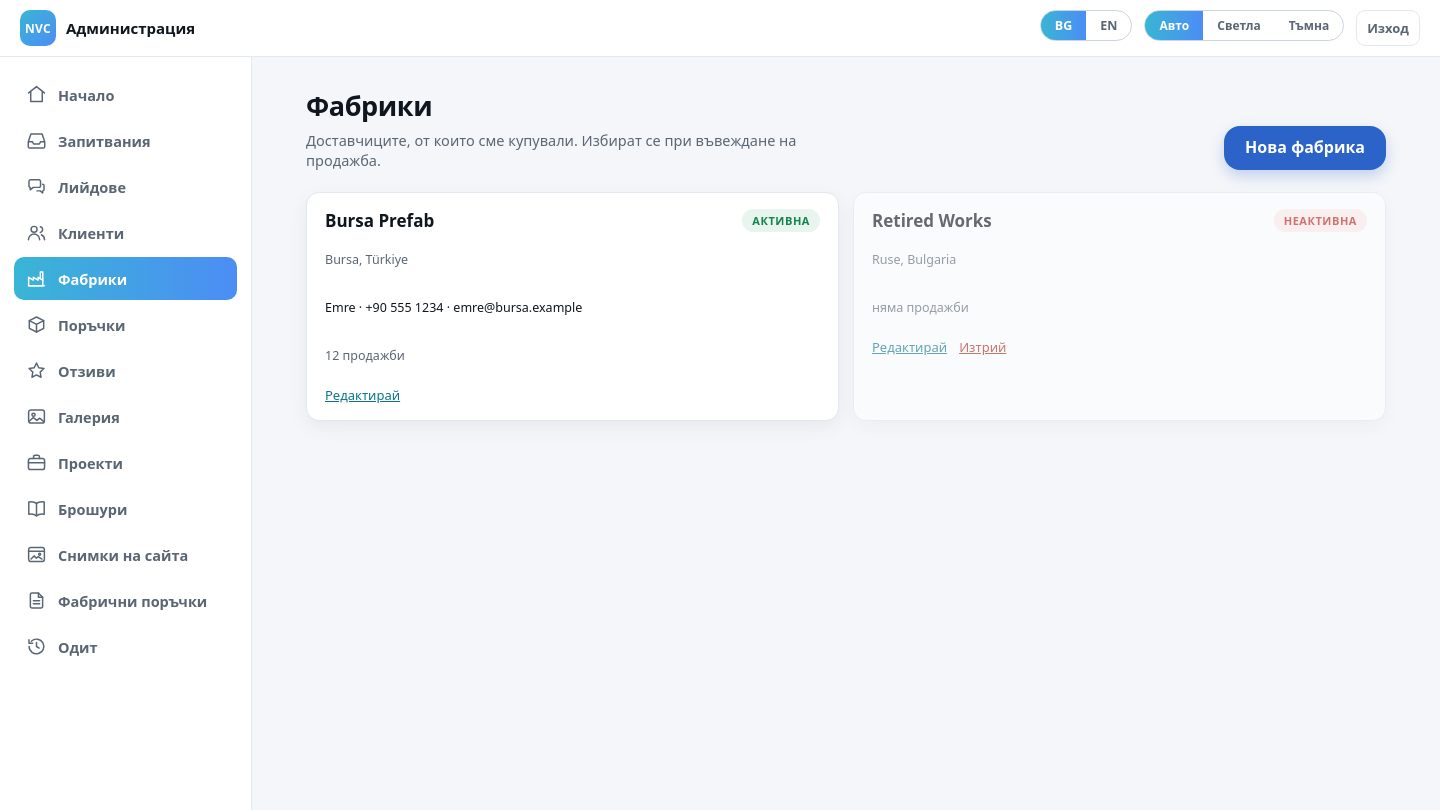
it: AdminFactoriesPage › a save that lands closes the editor and reports itself in the banner
Expected: the heading "Bursa Prefab" is shown, [325, 209, 434, 232]
Step 1. Click the button "Нова фабрика" → click(1305, 148), box [1224, 126, 1386, 170]
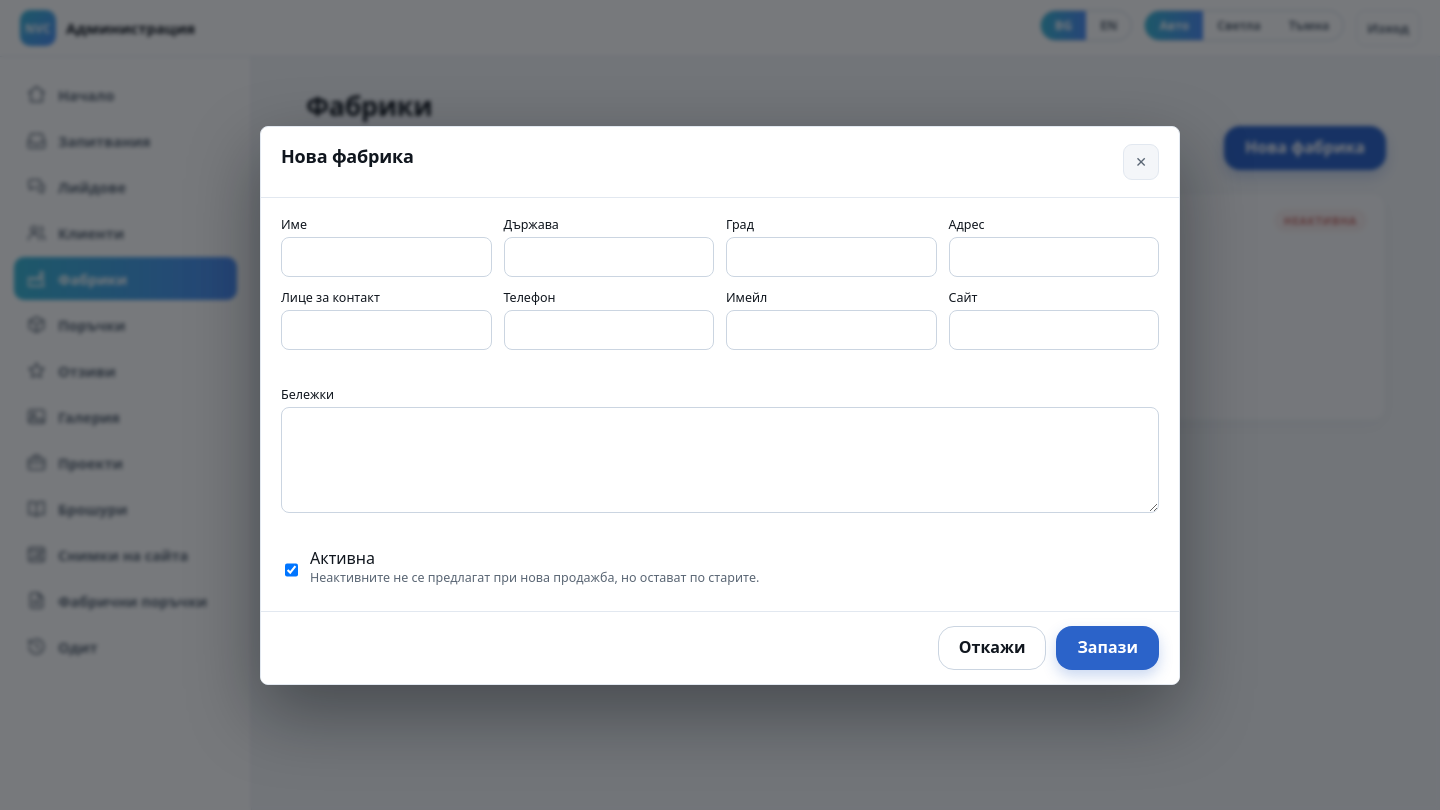
Step 2. Type "Нова" into the field labelled "Име" → (386, 256), box [281, 236, 492, 276]
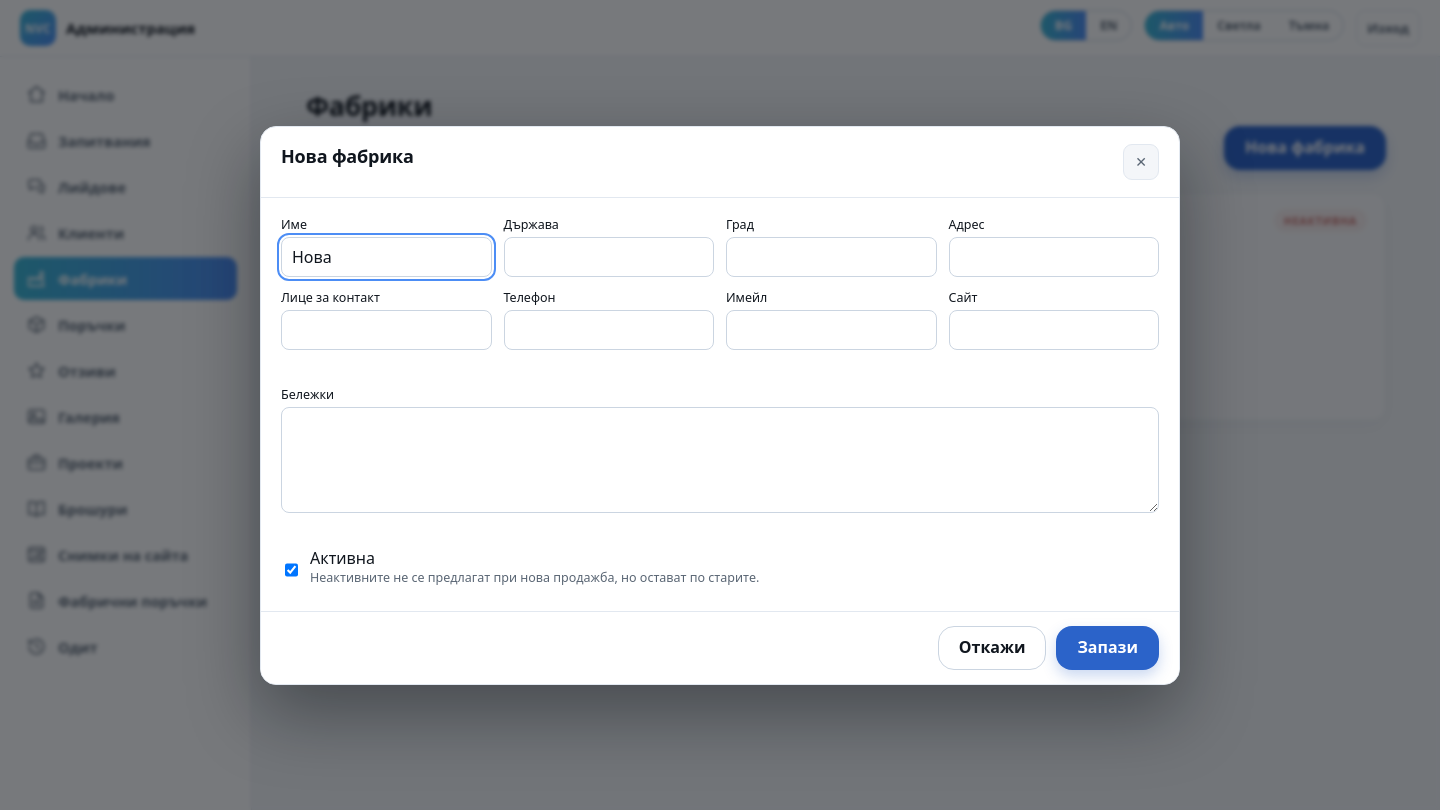
Step 3. Click the button "Запази" → click(1108, 648), box [1056, 626, 1159, 670]
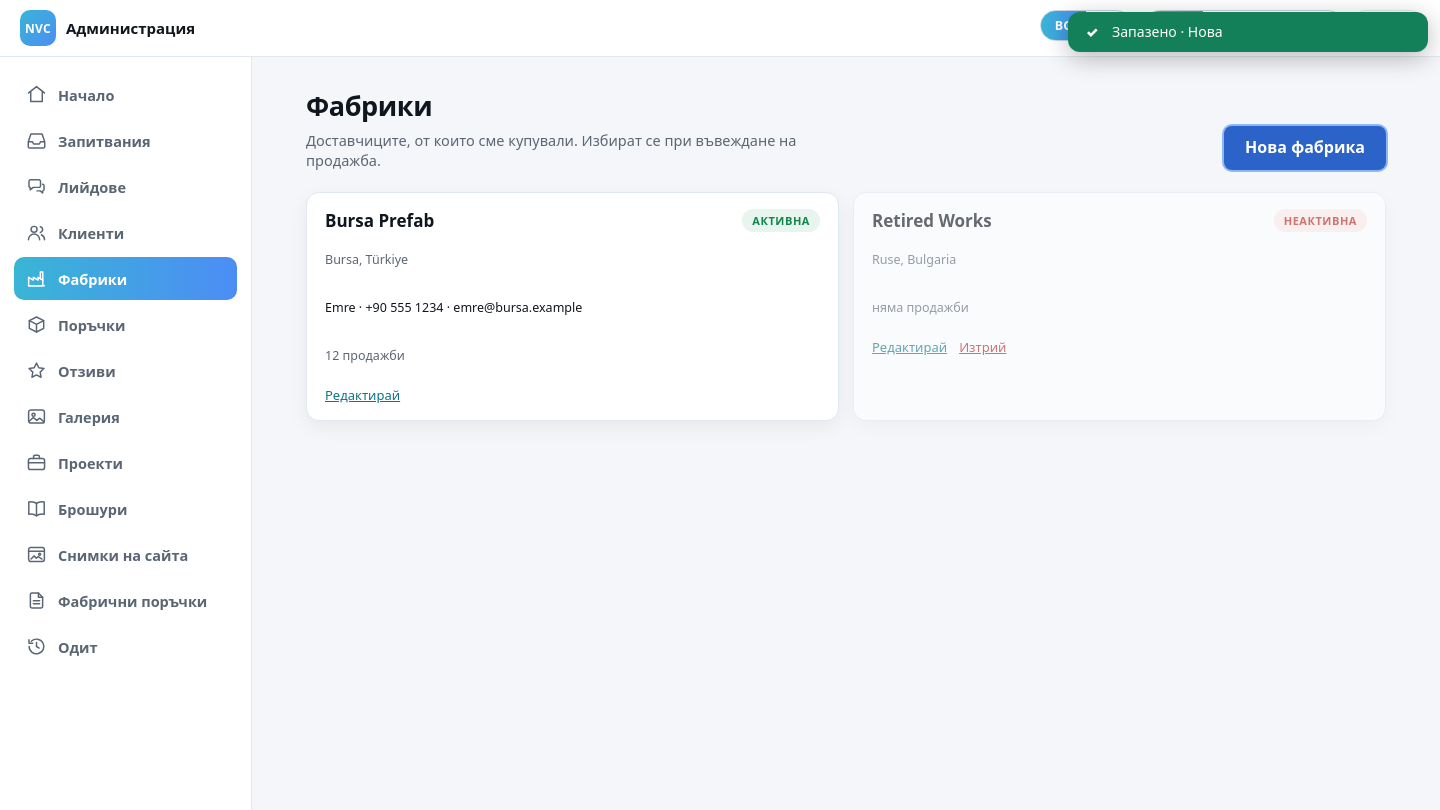
Now the dialog is gone
Now the text "Запазено · Нова" is shown, box [1112, 22, 1223, 41]
